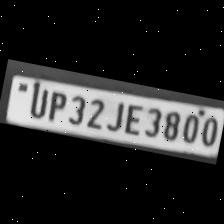0: (196, 113, 222, 148), (178, 110, 202, 144)
2: (82, 94, 108, 130)
3: (63, 90, 89, 126), (139, 103, 163, 139)
8: (158, 106, 184, 142)
E: (120, 100, 144, 136)
J: (103, 96, 126, 132)
P: (42, 87, 68, 123)
U: (23, 83, 50, 120)
